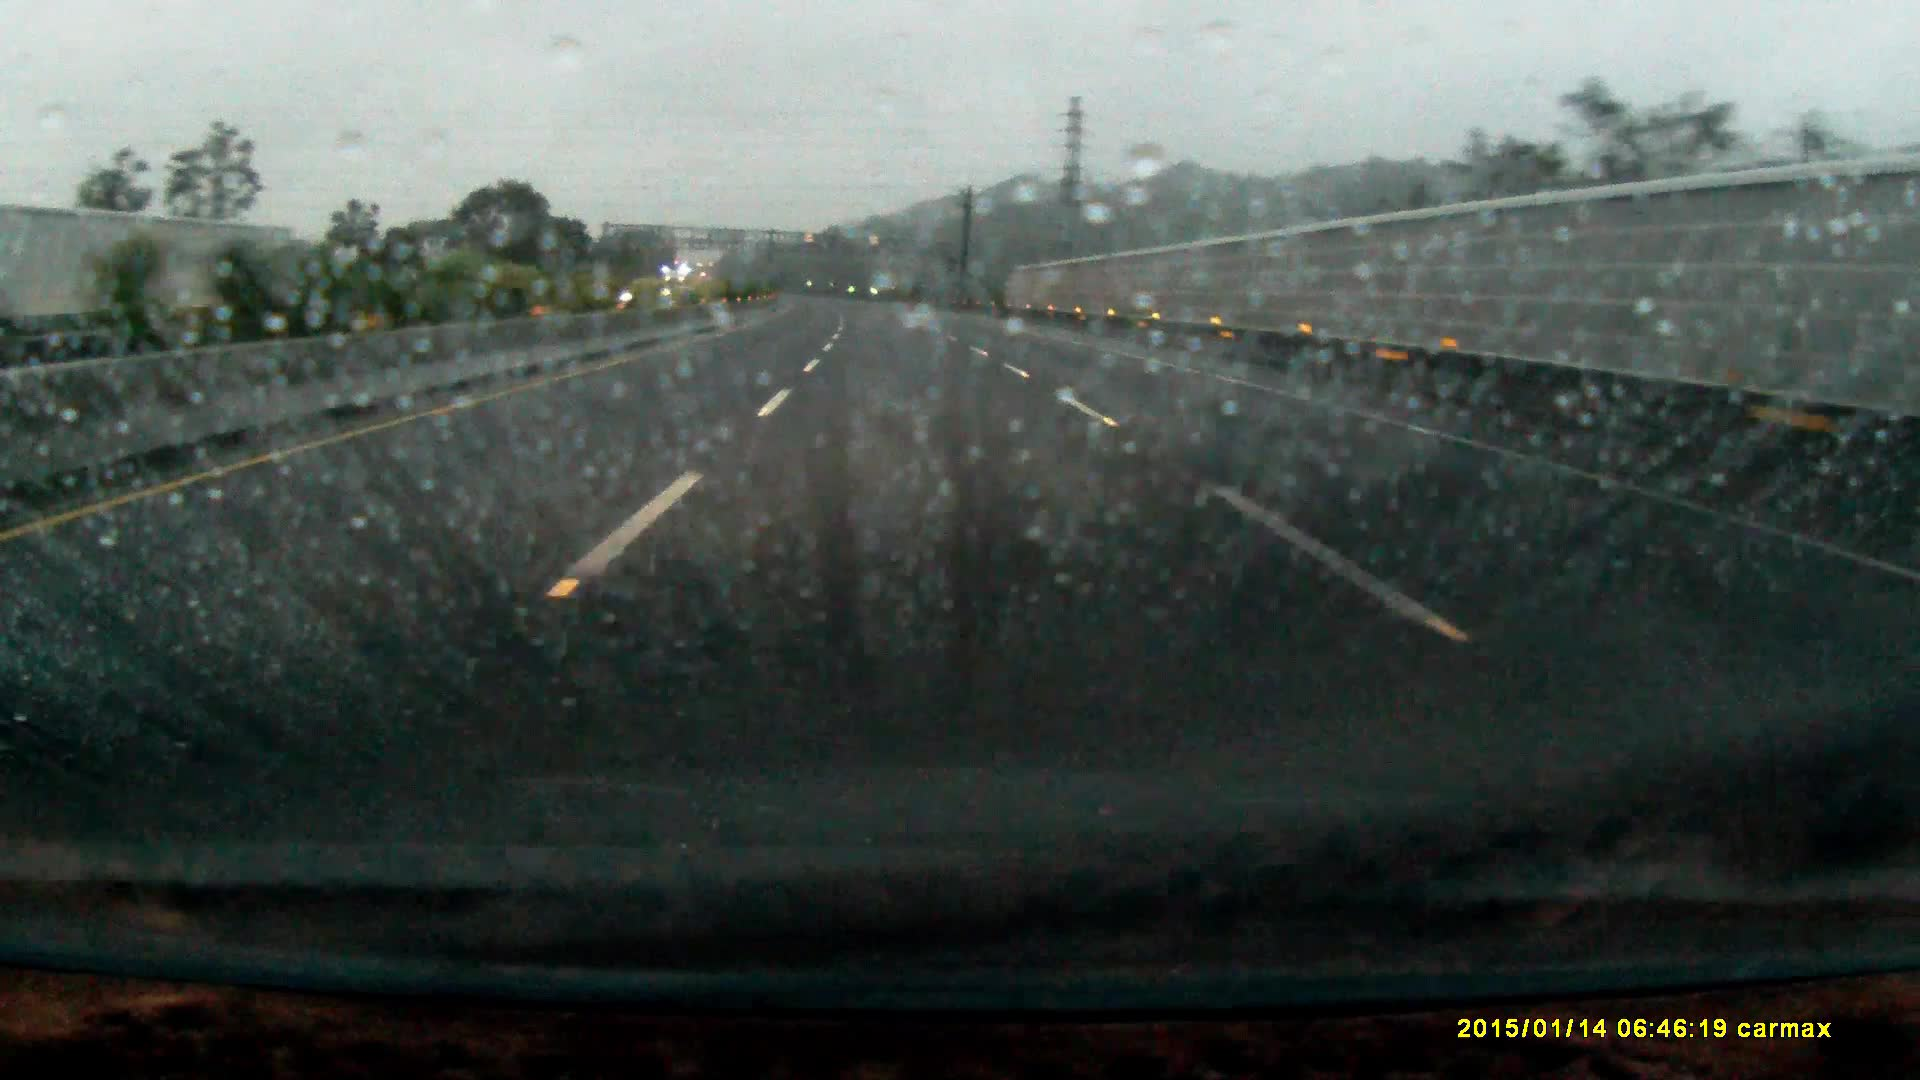vehicle: (659, 268, 698, 303)
